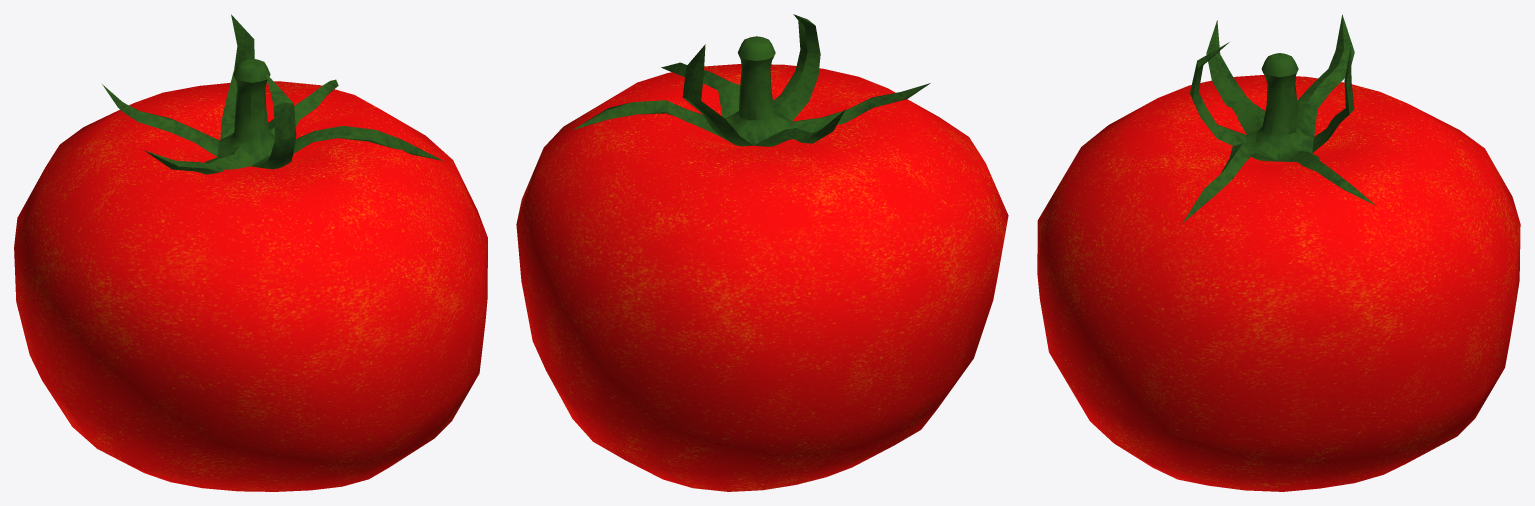
File: tomato04.fbx
3 renders of one model, left to right at view 1: azimuth 30°, elevation 25°; view 2: azimuth 150°, elevation 25°; view 3: azimuth 270°, elevation 25°, orthographic. The views are drawn at different scales.
Visible parts, largest first — view 1: Tomato04; view 2: Tomato04; view 3: Tomato04.
Part boxes in pixels (bbox=[...]): Tomato04: bbox=[14, 14, 487, 491]; Tomato04: bbox=[516, 14, 1008, 491]; Tomato04: bbox=[1037, 14, 1520, 491].
Bounding box in the file's own units: 6.02 × 6.07 × 6.17.
Materials: 1 (1 with a texture image).
